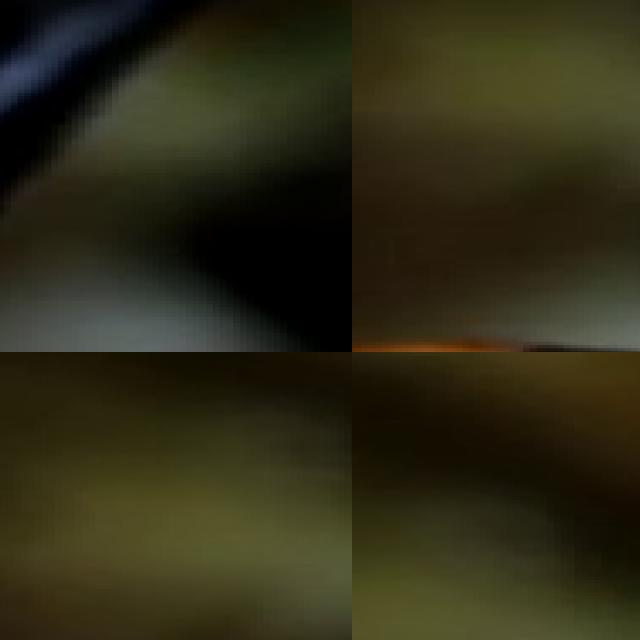fish: (0, 0, 352, 352)
